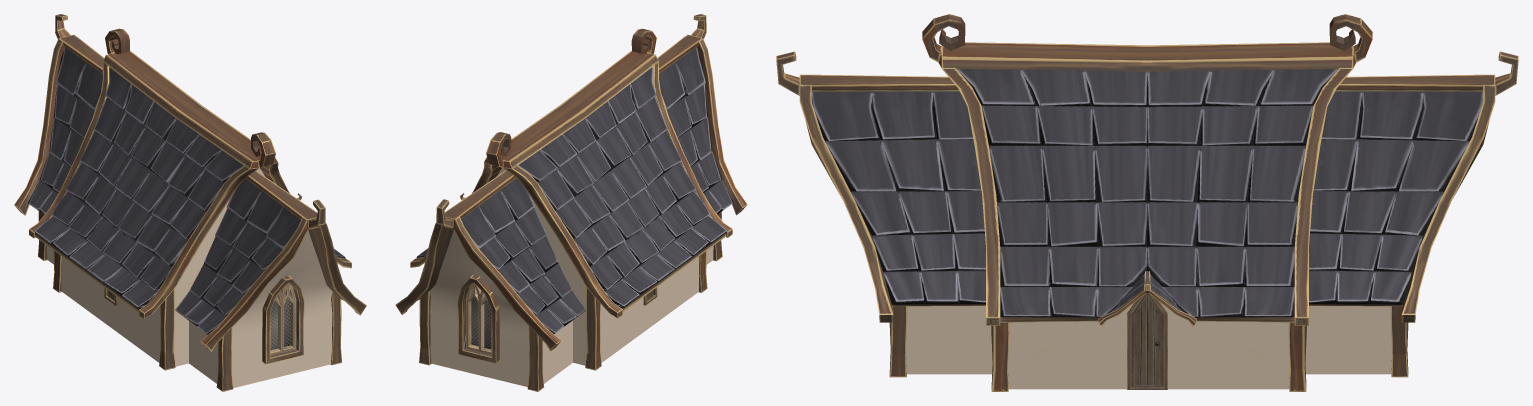
File: House 5.fbx
3 renders of one model, left to right at view 1: azimuth 30°, elevation 25°; view 2: azimuth 150°, elevation 25°; view 3: azimuth 270°, elevation 25°, orthographic. The views are drawn at different scales.
Visible parts, largest first — view 1: House 5; view 2: House 5; view 3: House 5.
Boxes of the visible parts, x1,y1,x2,y2 form: House 5: [14, 14, 366, 391]; House 5: [395, 14, 747, 391]; House 5: [776, 14, 1518, 391].
Size of the model in its own units: 1540 by 1555 by 3274.
